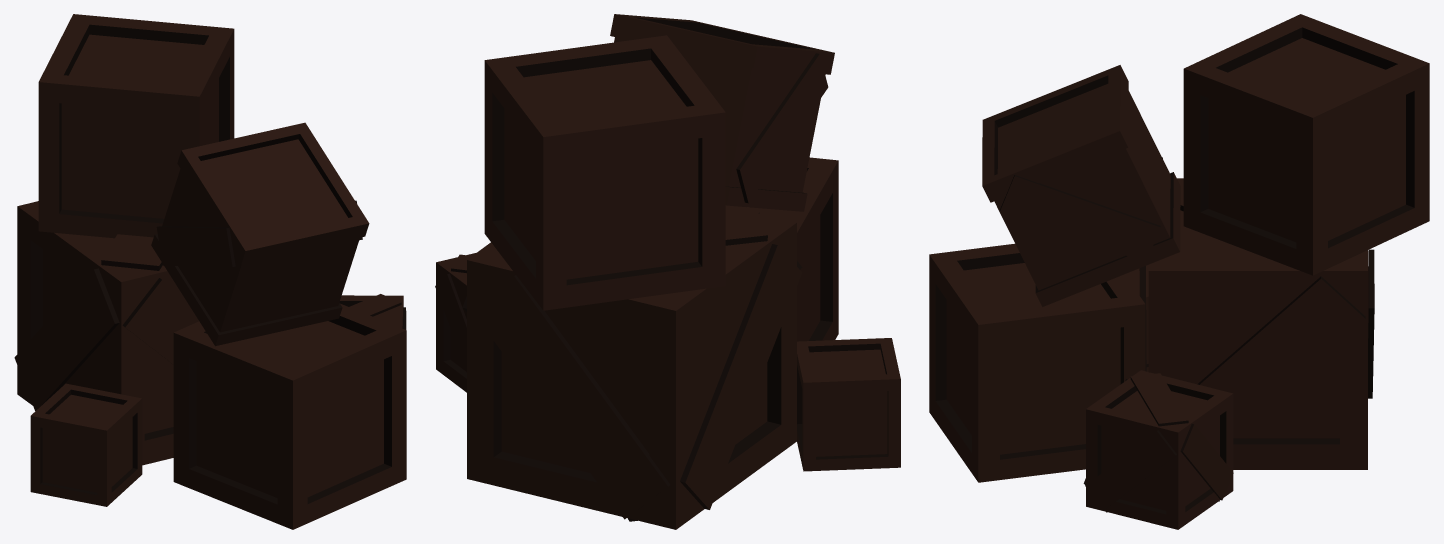
Rendered from ManyBox.fbx.
3 views of the same model, side by side, from view 1: azimuth 30°, elevation 25°; view 2: azimuth 150°, elevation 25°; view 3: azimuth 270°, elevation 25° (orthographic). The views are drawn at different scales.
Parts seen in each view (by area): view 1: ManyBox; view 2: ManyBox; view 3: ManyBox.
Part boxes in pixels (left/top/right/bottom): ManyBox: left=14, top=14, right=406, bottom=529; ManyBox: left=435, top=14, right=900, bottom=529; ManyBox: left=929, top=14, right=1429, bottom=529.
Size of the model in its own units: 92.45 by 77.99 by 97.73.
